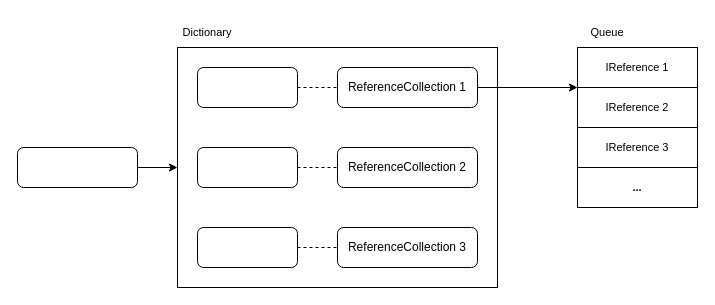
This 715x305 diagram has some shape labels left out. Here are the shapes that lost their labels. From the top down, the centre of each, then its label:
point (247, 87): Type 1
point (77, 167): ReferencePool
point (247, 167): Type 2
point (247, 247): Type 3
